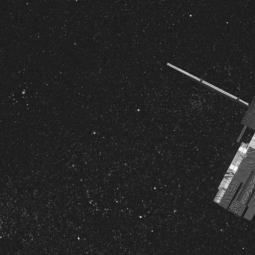soho: (159, 59, 255, 230)
